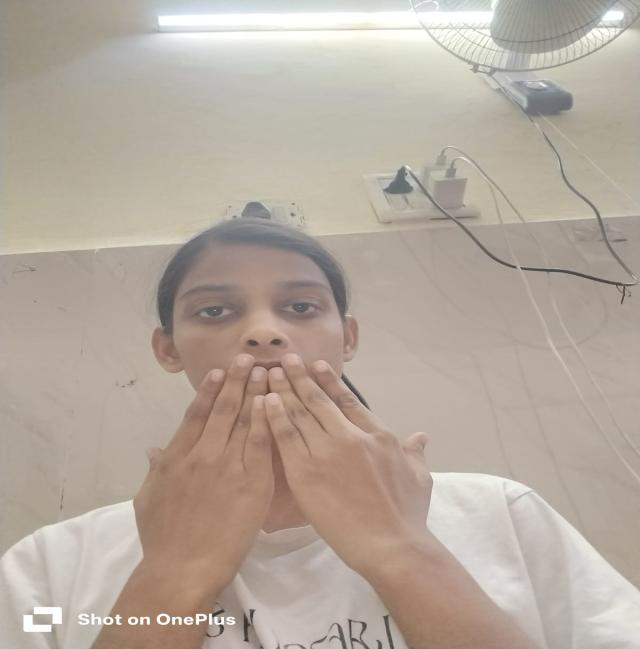Thanks: (107, 342, 462, 578)
